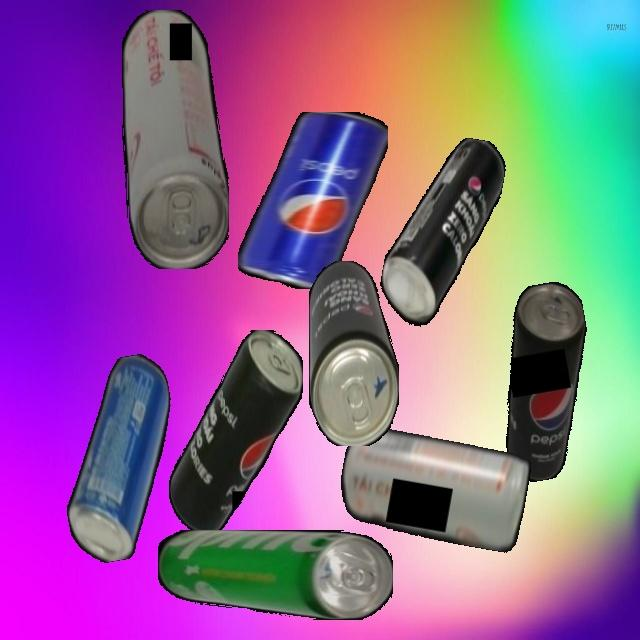debris: (43, 351, 196, 567), (374, 128, 509, 341), (121, 9, 229, 269), (168, 329, 303, 533), (480, 278, 611, 485), (237, 112, 388, 289), (334, 422, 533, 554), (157, 530, 393, 620), (308, 260, 399, 446)
